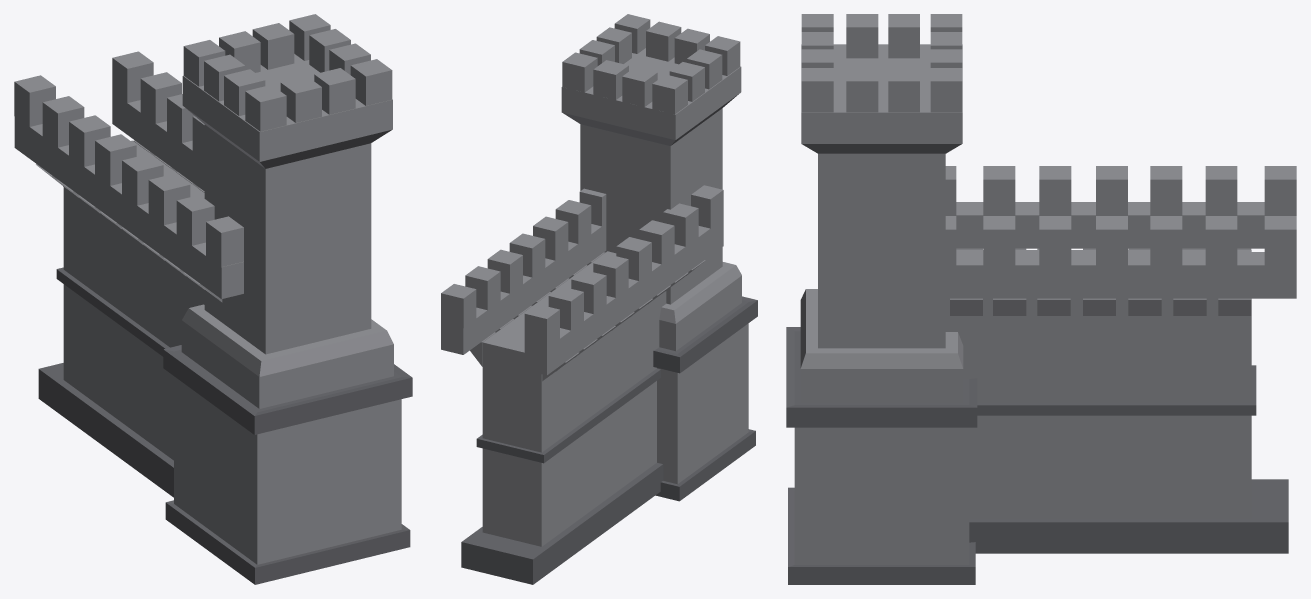
Rendered from model_wallWithTowerEntrance.fbx.
3 renders of one model, left to right at view 1: azimuth 30°, elevation 25°; view 2: azimuth 150°, elevation 25°; view 3: azimuth 270°, elevation 25°, orthographic. The views are drawn at different scales.
Parts seen in each view (by area): view 1: group7_pasted__group_pasted__pasted__pCube6; view 2: group7_pasted__group_pasted__pasted__pCube6; view 3: group7_pasted__group_pasted__pasted__pCube6.
Boxes of the visible parts, x1,y1,x2,y2 form: group7_pasted__group_pasted__pasted__pCube6: (14,14,412,584); group7_pasted__group_pasted__pasted__pCube6: (441,14,757,584); group7_pasted__group_pasted__pasted__pCube6: (786,14,1296,584).
Bounding box in the file's own units: 4.5 × 12.94 × 12.03.
